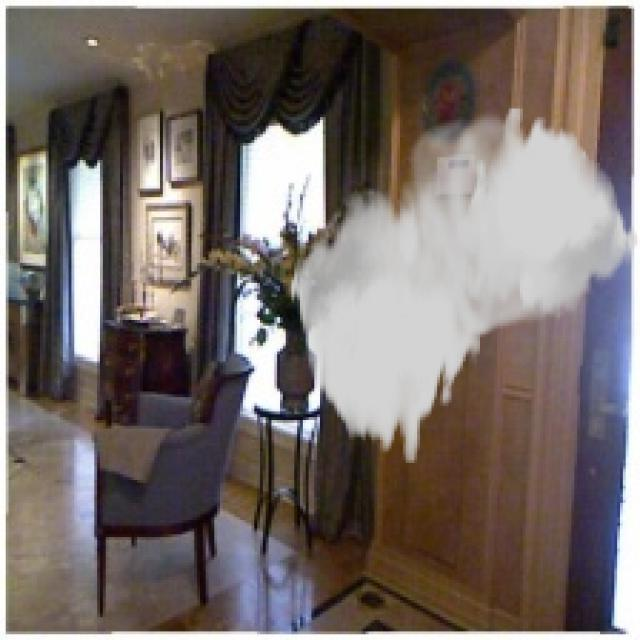Smoke: (288, 106, 638, 466)
